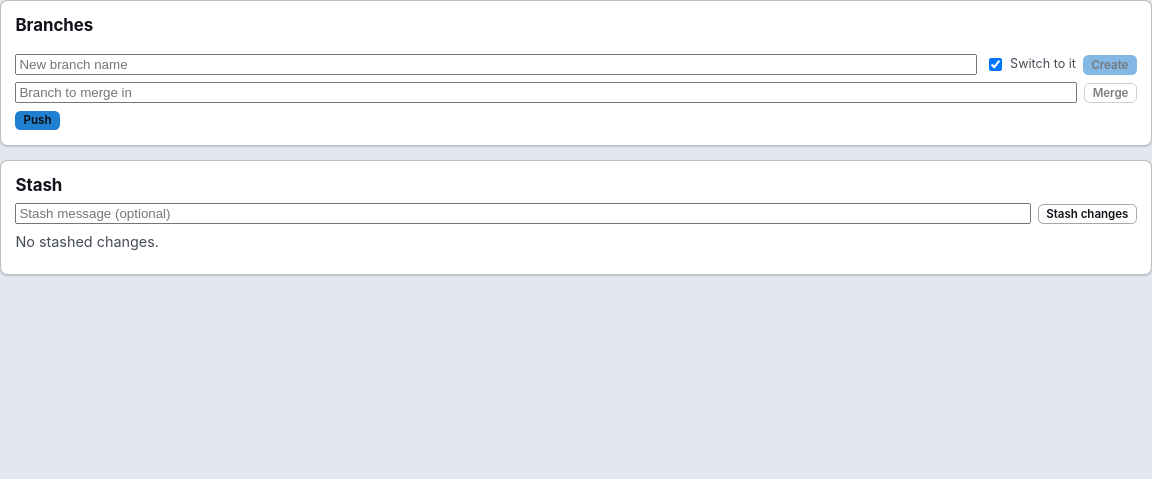
Test: GitBranchPanel: merge (SPEC §7.6; issue #234) › a conflict outcome renders the real conflicted files and an Abort merge action — resolve or abort, never a silent failure
Step 1. Type "feature" into the field with test id "git-branch-merge-name" → (546, 93), box [15, 82, 1077, 103]
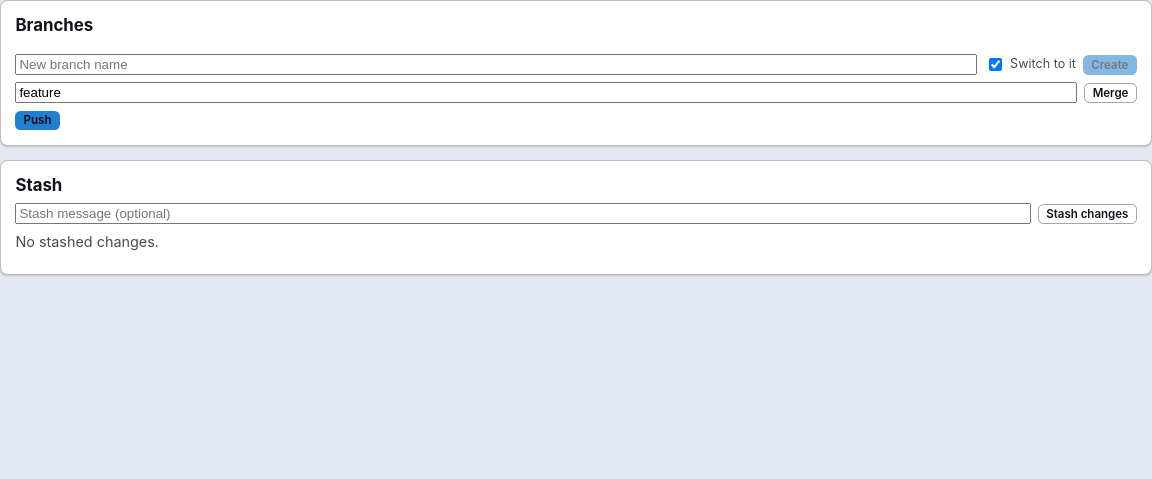
Step 2. Click the button with test id "git-branch-merge-submit" → (1111, 93), box [1084, 83, 1137, 103]
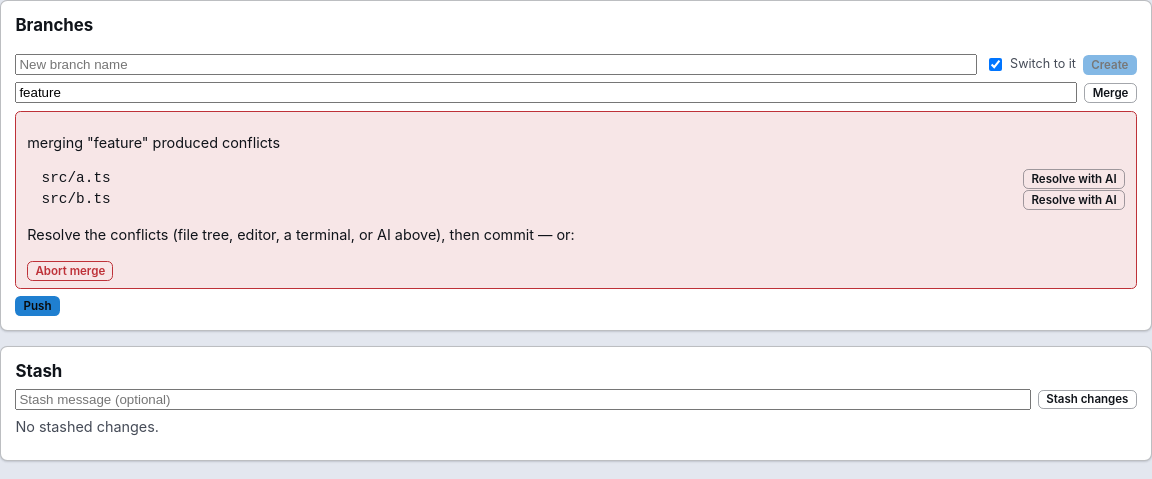
expect the text "src/a.ts" is shown: met, box [42, 168, 111, 189]
expect the text "src/b.ts" is shown: met, box [42, 189, 111, 210]
expect the button with test id "git-branch-merge-abort" is shown: met, box [27, 261, 113, 281]
